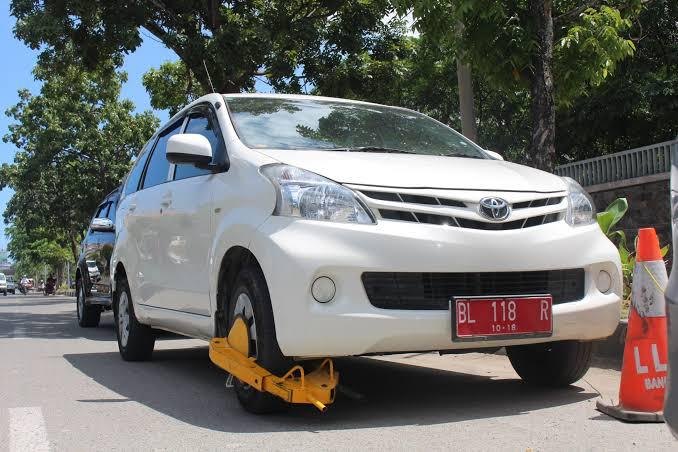plate: (453, 293, 555, 342)
